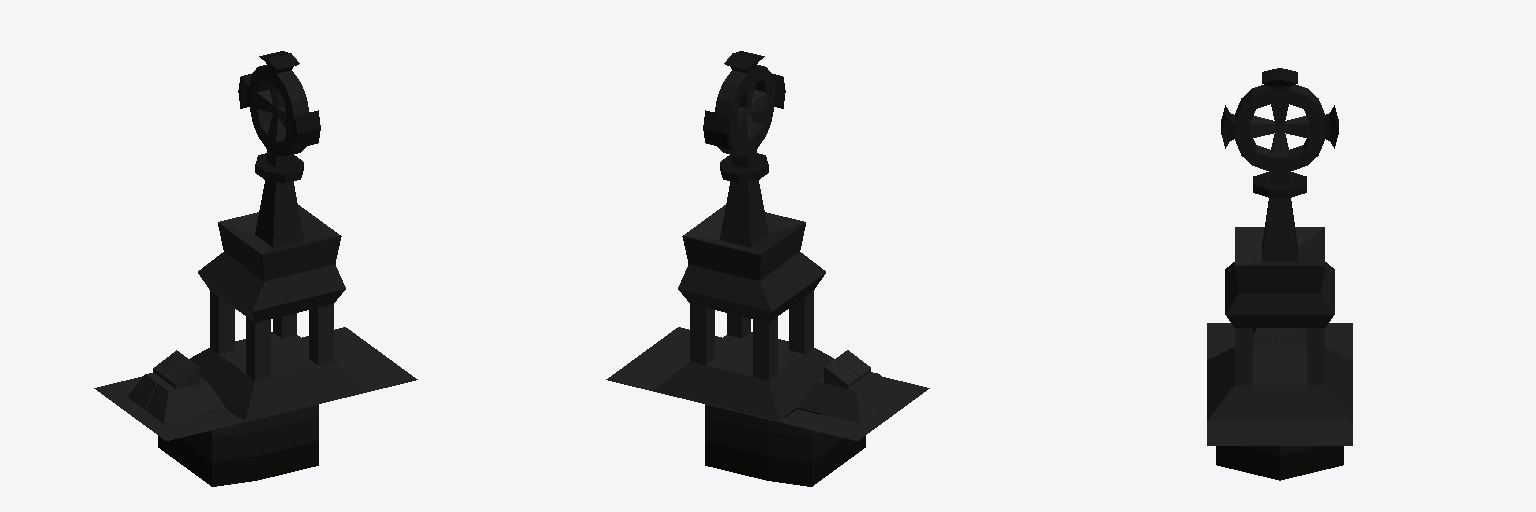
The model's file is zaros_altar.obj.
The picture shows the model from 3 angles: view 1: azimuth 30°, elevation 25°; view 2: azimuth 150°, elevation 25°; view 3: azimuth 270°, elevation 25°; orthographic projection.
Bounding box in the file's own units: 256 × 377 × 128.